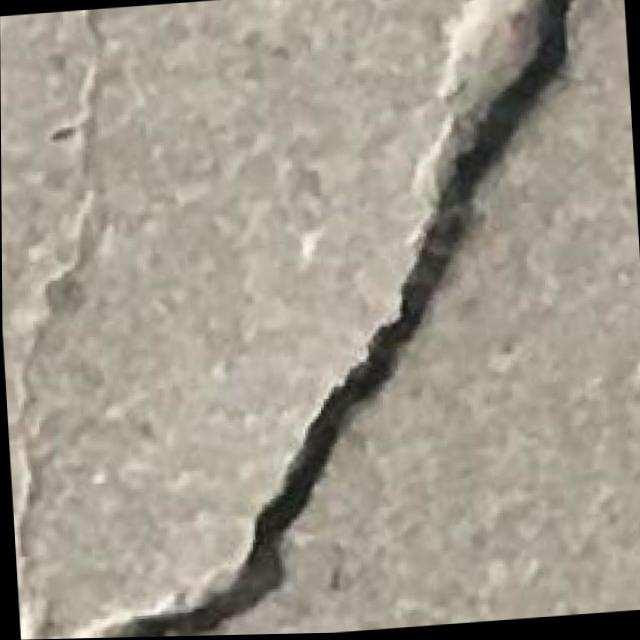Crack: (49, 0, 627, 639)
